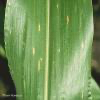Corn Gray leaf spot: (3, 0, 95, 99)
